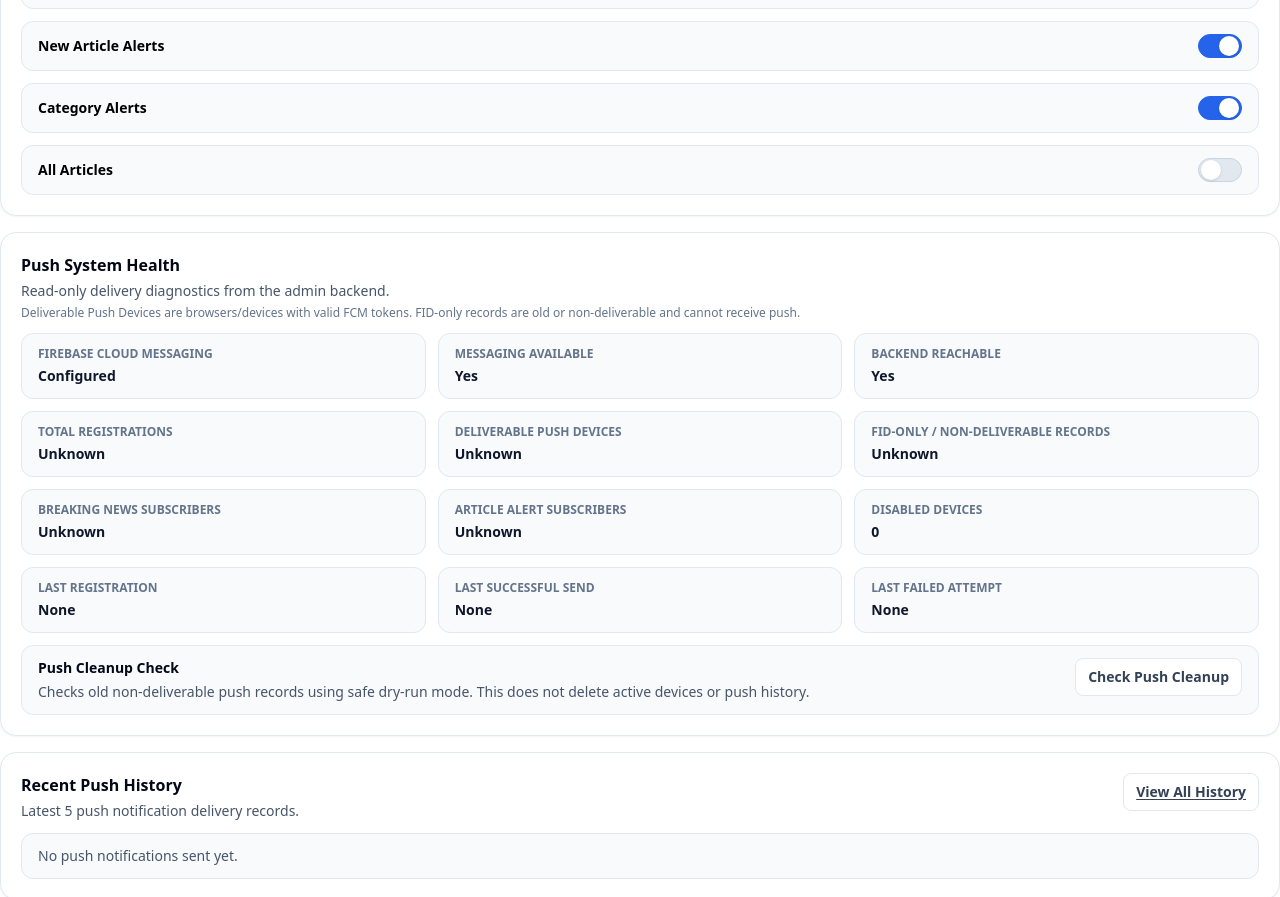
Scenario: PushNotificationsSettings › shows a friendly cleanup preview error without raw backend details
The image size is (1280, 897).
(page scrolled)
Expected: the text "Configured" is shown, [38, 366, 116, 385]
What coordinates should you click on to do the following:
click the button "Check Push Cleanup"
I would click on:
 (1159, 677)
Its box is [1075, 658, 1242, 696].
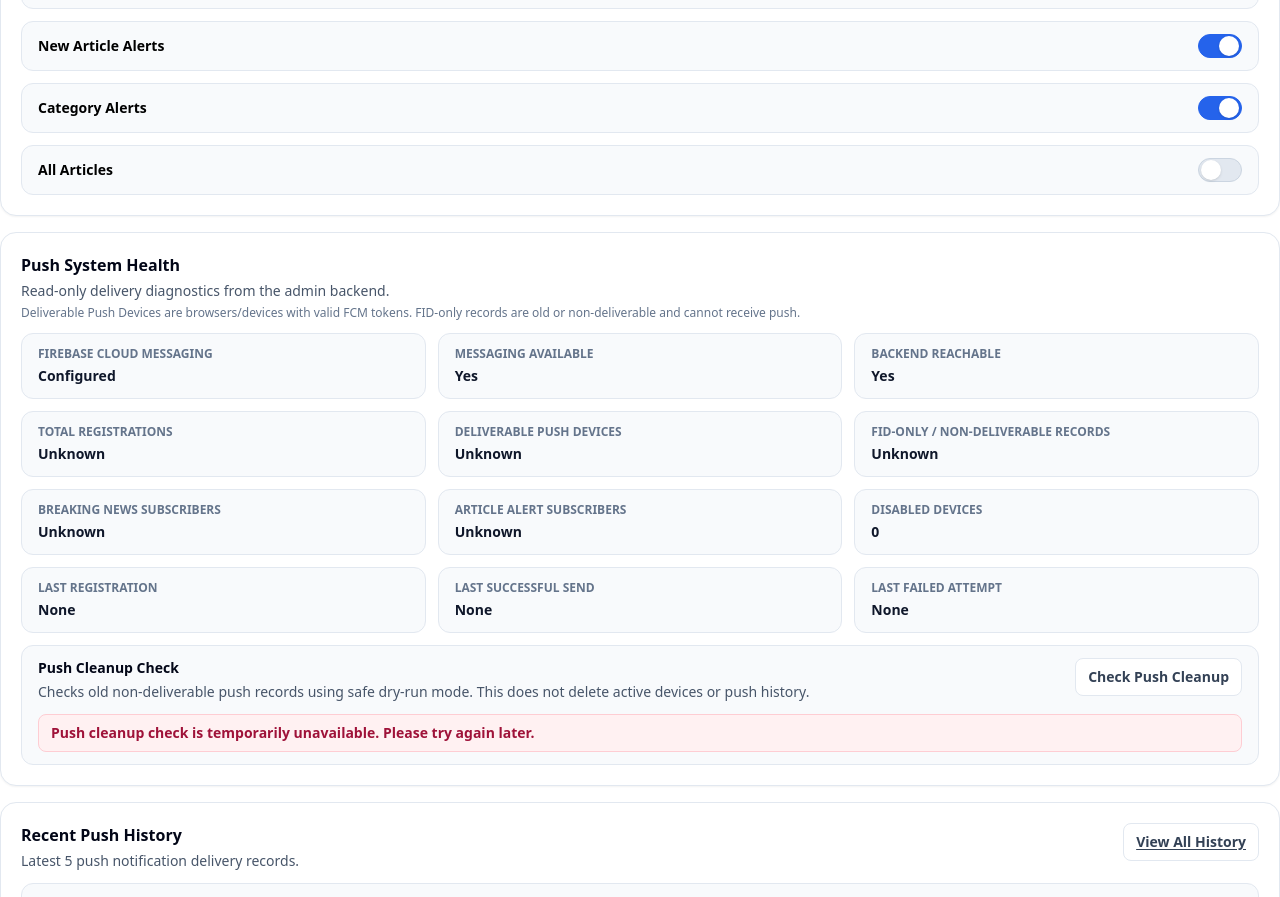
Now the text "Push cleanup check is temporarily unavailable. Please try again later." is shown, box [38, 714, 1242, 752]
